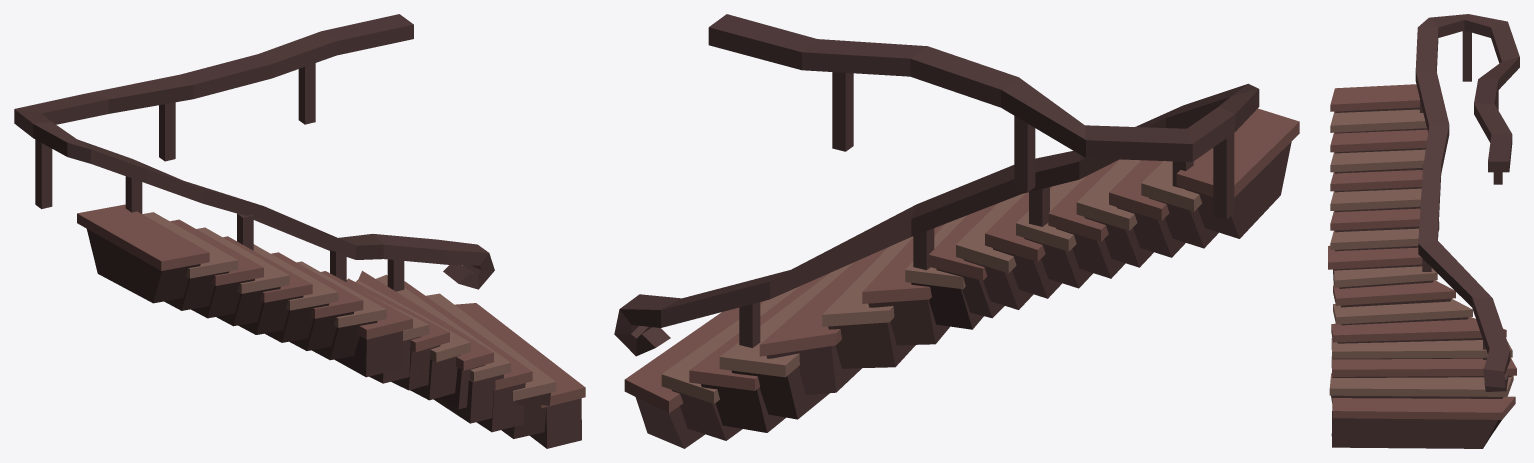
File: LightRoseWoodStepsMediumWonkyStairs1.fbx
3 views of the same model, side by side, from view 1: azimuth 30°, elevation 25°; view 2: azimuth 150°, elevation 25°; view 3: azimuth 270°, elevation 25° (orthographic). The views are drawn at different scales.
Visible parts, largest first — view 1: LightRoseWoodStepsMediumWonkyStairs1; view 2: LightRoseWoodStepsMediumWonkyStairs1; view 3: LightRoseWoodStepsMediumWonkyStairs1.
Part boxes in pixels (x1,y1,x2,y2): LightRoseWoodStepsMediumWonkyStairs1: [14, 14, 585, 448]; LightRoseWoodStepsMediumWonkyStairs1: [614, 14, 1299, 448]; LightRoseWoodStepsMediumWonkyStairs1: [1328, 14, 1519, 448].
Size of the model in its own units: 1042 by 759 by 493.
